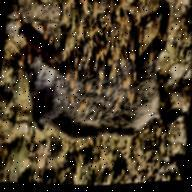boar: (16, 0, 188, 153)
